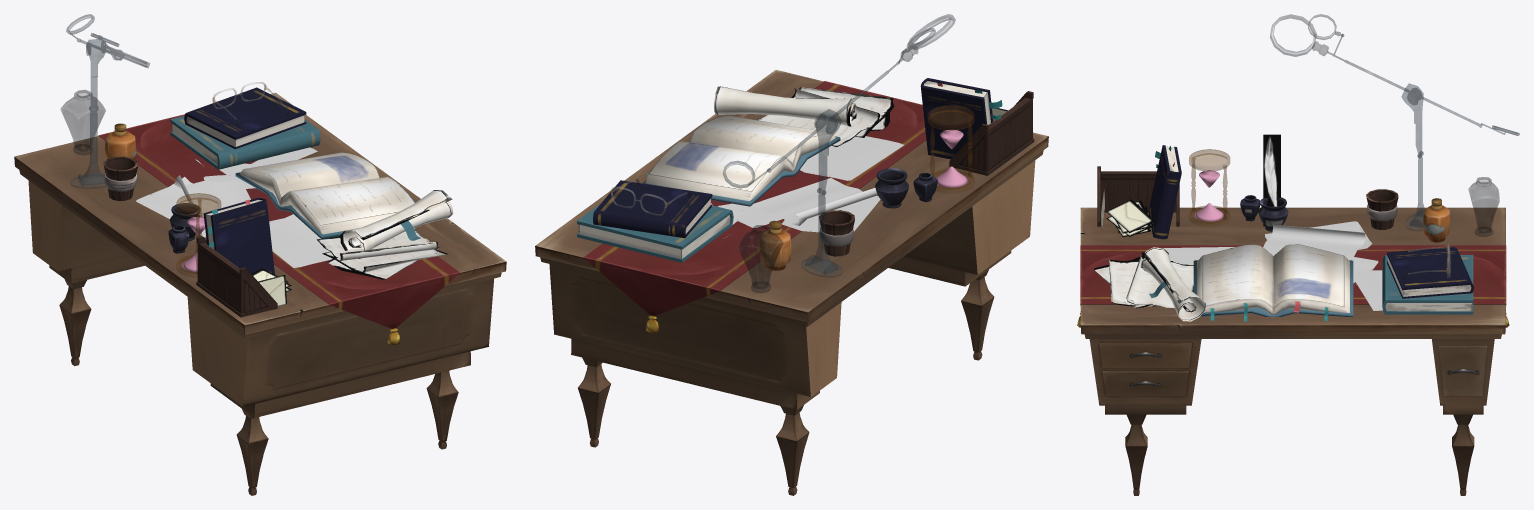
File: stylized_desk.glb
The picture shows the model from 3 angles, left to right: view 1: azimuth 30°, elevation 25°; view 2: azimuth 150°, elevation 25°; view 3: azimuth 270°, elevation 25°; orthographic projection. The views are drawn at different scales.
Parts seen in each view (by area): view 1: Desk, Nappe, book_open_LP, Book.001, Book.004, Book.003, porte-lettres, sheets, sheets.001, Plane, loupe, sheets.002 (+7 smaller); view 2: Desk, Nappe, book_open_LP, Book.001, sheets.001, loupe, Book.004, Book.003, porte-lettres, Plane, sheets, sheets.002 (+6 smaller); view 3: Desk, book_open_LP, Drawers, Nappe, Book.001, sheets.001, loupe, sheets, Book.003, porte-lettres, Plane, Book.004 (+10 smaller).
Part boxes in pixels (bbox=[...]): Desk: bbox=[14, 93, 506, 495]; Nappe: bbox=[98, 114, 459, 345]; book_open_LP: bbox=[235, 152, 414, 239]; Book.001: bbox=[184, 87, 306, 149]; Book.004: bbox=[203, 198, 274, 274]; Book.003: bbox=[170, 116, 320, 169]; porte-lettres: bbox=[196, 236, 277, 317]; sheets: bbox=[317, 228, 448, 279]; sheets.001: bbox=[136, 175, 255, 237]; Plane: bbox=[340, 190, 453, 258]; loupe: bbox=[66, 14, 149, 188]; sheets.002: bbox=[269, 214, 332, 267]; Desk: bbox=[535, 70, 1048, 495]; Nappe: bbox=[583, 81, 926, 333]; book_open_LP: bbox=[642, 115, 840, 206]; Book.001: bbox=[593, 180, 712, 238]; sheets.001: bbox=[711, 178, 880, 232]; loupe: bbox=[723, 14, 955, 277]; Book.004: bbox=[920, 78, 993, 159]; Book.003: bbox=[577, 204, 733, 262]; porte-lettres: bbox=[949, 91, 1034, 175]; Plane: bbox=[714, 86, 856, 126]; sheets: bbox=[757, 87, 894, 147]; sheets.002: bbox=[800, 136, 903, 180]; Desk: bbox=[1080, 207, 1505, 495]; book_open_LP: bbox=[1193, 244, 1353, 316]; Drawers: bbox=[1099, 342, 1487, 395]; Nappe: bbox=[1077, 245, 1509, 327]; Book.001: bbox=[1387, 247, 1473, 298]; sheets.001: bbox=[1263, 221, 1378, 285]; loupe: bbox=[1270, 14, 1519, 230]; sheets: bbox=[1094, 252, 1193, 308]; Book.003: bbox=[1382, 255, 1473, 314]; porte-lettres: bbox=[1097, 166, 1179, 226]; Plane: bbox=[1140, 247, 1205, 321]; Book.004: bbox=[1148, 145, 1181, 239].
Bounding box in the file's own units: 104 × 141 × 153.
Materials: 4 (4 with a texture image).
